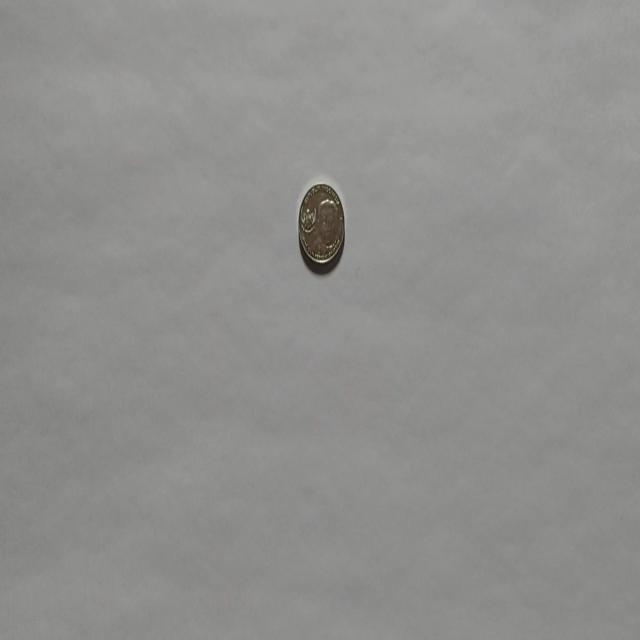seratus rupiah: (297, 182, 345, 270)
